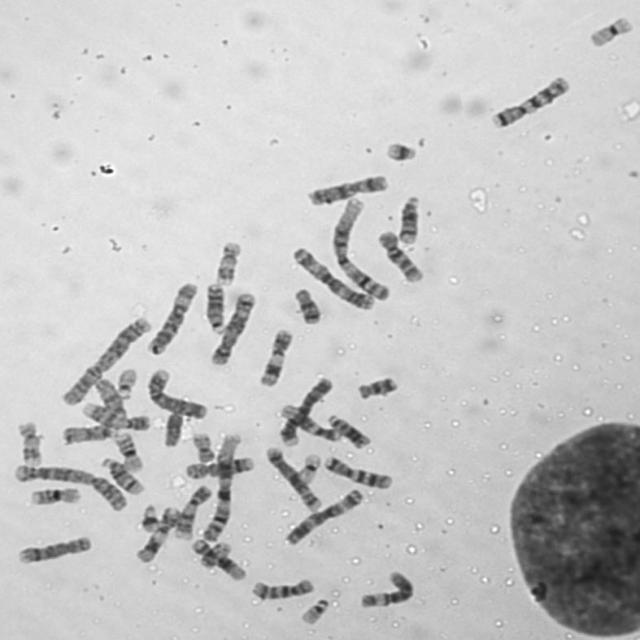A1: (328, 194, 392, 302), (199, 430, 240, 543)
A2: (57, 313, 154, 407), (12, 462, 128, 512)
A3: (290, 244, 376, 310), (282, 486, 365, 547)
B4: (276, 373, 336, 449), (145, 366, 209, 419)
B5: (263, 443, 323, 512), (207, 288, 257, 366)
C10: (374, 227, 426, 284), (249, 576, 315, 601)
C11: (132, 504, 182, 564), (256, 326, 294, 387)
C12: (277, 402, 345, 444), (188, 536, 248, 583)
C6: (145, 278, 199, 356), (357, 568, 416, 609)
C7: (487, 71, 572, 130), (321, 452, 394, 490)
C8: (14, 533, 93, 566), (180, 453, 256, 480)
C9: (171, 482, 214, 540), (78, 400, 152, 432)
D13: (324, 411, 372, 451), (201, 280, 228, 334)
D14: (98, 455, 146, 495), (394, 193, 423, 245)
D15: (91, 376, 129, 417), (58, 422, 118, 446)
E16: (110, 429, 144, 473), (26, 484, 82, 506)
E17: (13, 417, 44, 467), (212, 238, 243, 287)
E18: (290, 284, 324, 326), (354, 372, 399, 400)
F19: (583, 11, 636, 49), (291, 450, 323, 484)
F20: (196, 539, 232, 569), (189, 430, 216, 464)
G21: (380, 136, 420, 162), (137, 500, 160, 534)
G22: (297, 595, 332, 627), (113, 364, 139, 401)
X: (304, 170, 391, 207)
Y: (158, 408, 184, 448)
